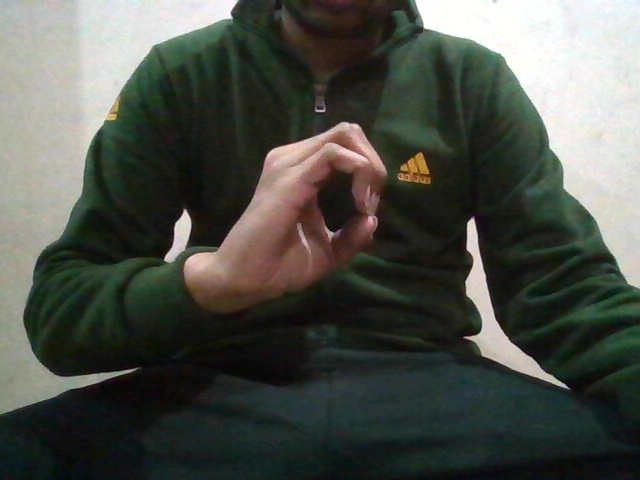O: (239, 120, 380, 294)
